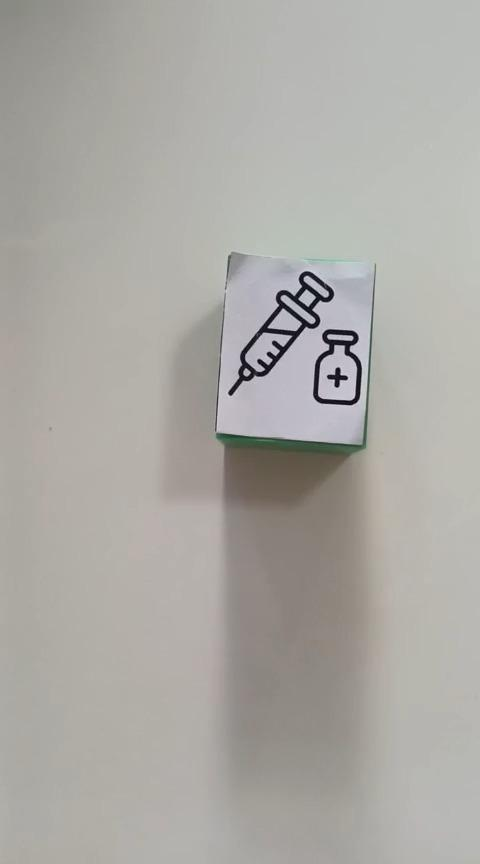antiseptic cream: (214, 252, 378, 454)
